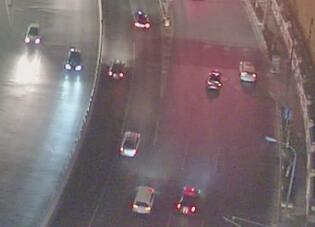car: (174, 185, 201, 216), (130, 184, 156, 214), (118, 130, 142, 157), (65, 47, 84, 73), (237, 59, 257, 82), (107, 59, 126, 80), (132, 9, 151, 29), (23, 23, 41, 44), (205, 69, 223, 89)
